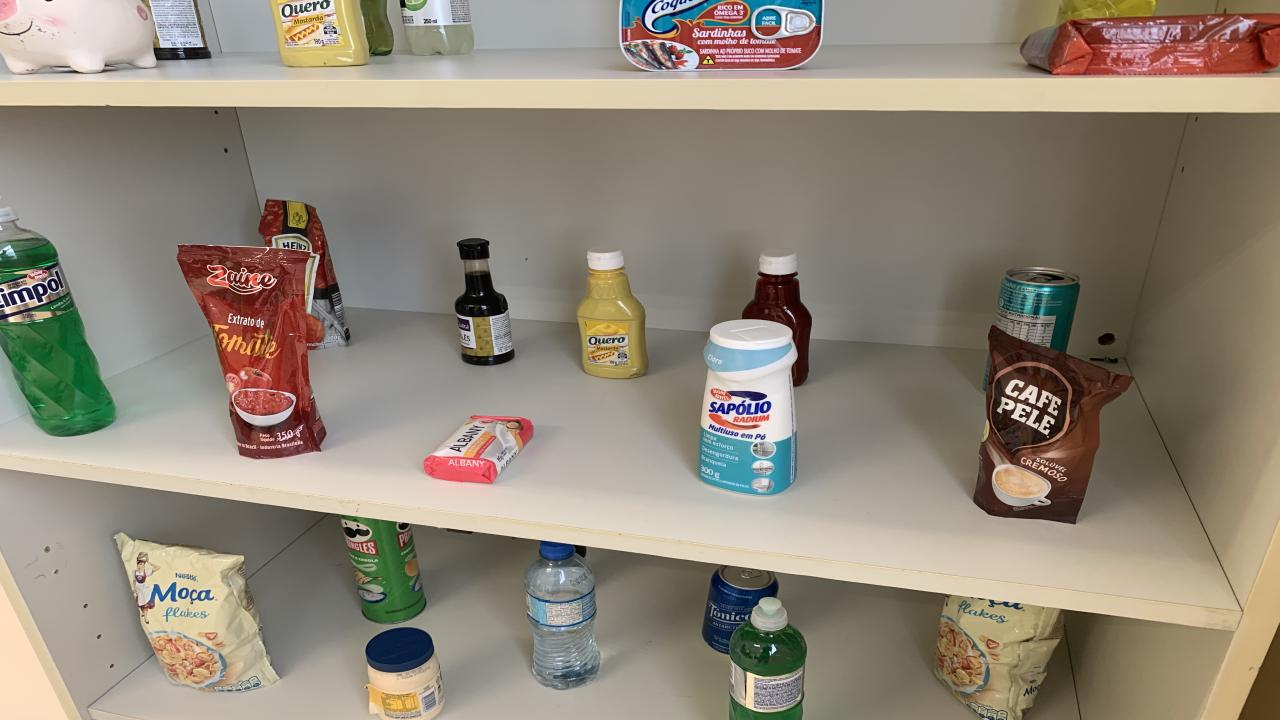Cleaner-Cleanup_Items: (698, 319, 798, 495)
Coffee-Pantry_Items: (975, 326, 1132, 523)
Detergent-Cleanup_Items: (0, 206, 115, 435), (730, 596, 808, 720), (1058, 0, 1158, 22)
English_Sauce-Pantry_Items: (455, 238, 515, 366), (148, 0, 210, 60)
Flakes-Snacks: (115, 532, 278, 692), (935, 596, 1065, 720)
Guarana-Drinks: (360, 0, 392, 56)
Guava-Snacks: (1020, 13, 1280, 75)
Ketchup-Pantry_Items: (742, 249, 812, 386)
Mayonnaise-Pantry_Items: (365, 626, 445, 720)
Mustard-Pantry_Items: (578, 248, 648, 379), (270, 0, 368, 68)
Pringles-Snacks: (340, 516, 425, 624)
Soap-Cleanup_Items: (422, 416, 532, 484)
Soda-Drinks: (400, 0, 475, 54)
Tea-Drinks: (995, 266, 1080, 352)
Tomato_Sauce-Pantry_Items: (178, 244, 325, 458), (258, 199, 350, 349)
Tonic-Drinks: (702, 566, 780, 652)
Tuna_Can-Pantry_Items: (620, 0, 822, 71)
Water_Bottle-Drinks: (525, 542, 600, 690)
